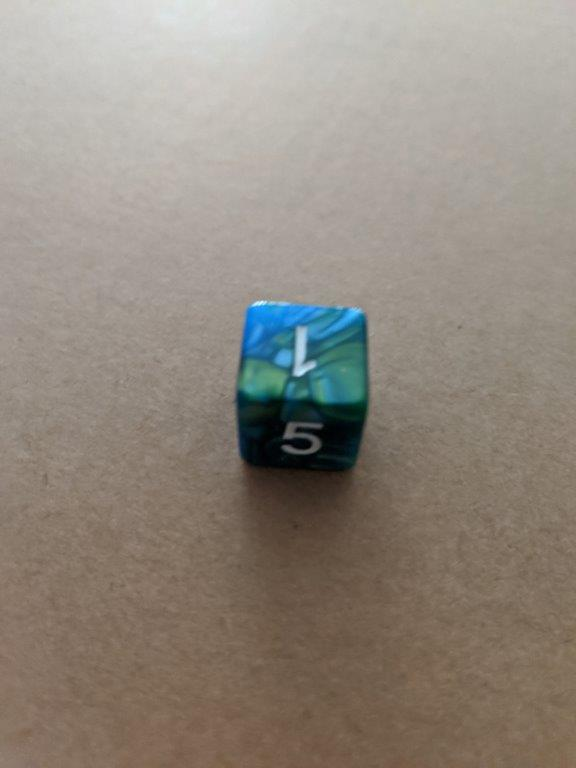d6-1: (235, 300, 370, 473)
